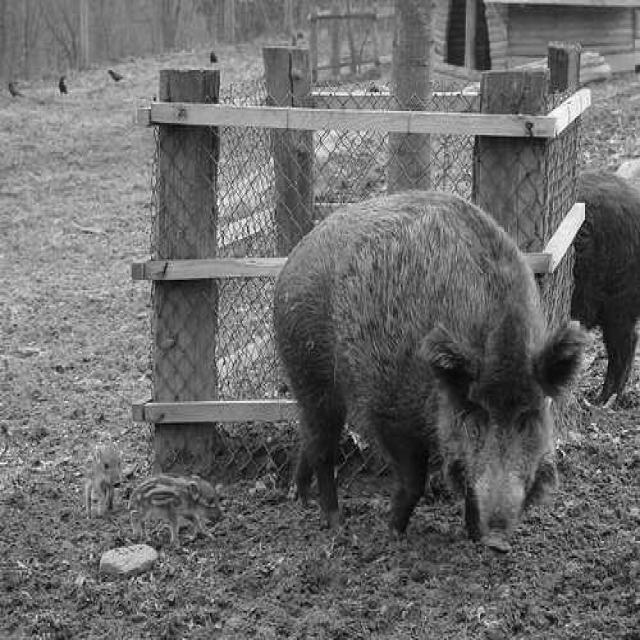boar: (273, 191, 580, 546), (572, 174, 640, 404), (128, 473, 219, 541), (84, 445, 122, 518)
